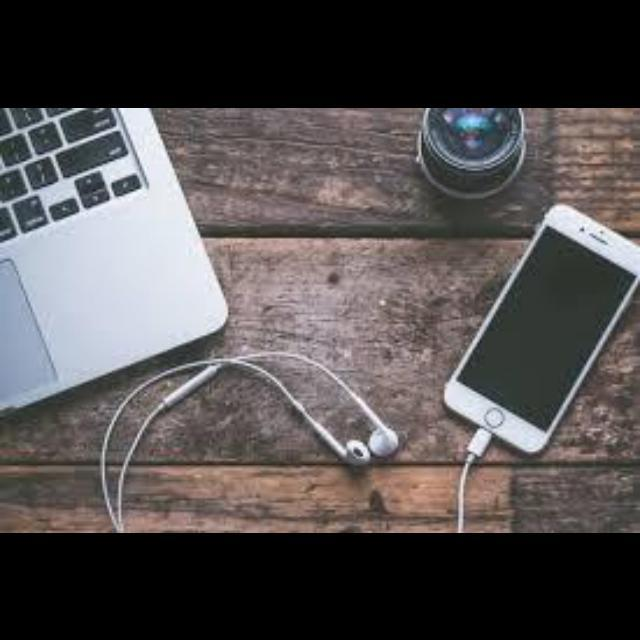Phone: (436, 190, 640, 456)
